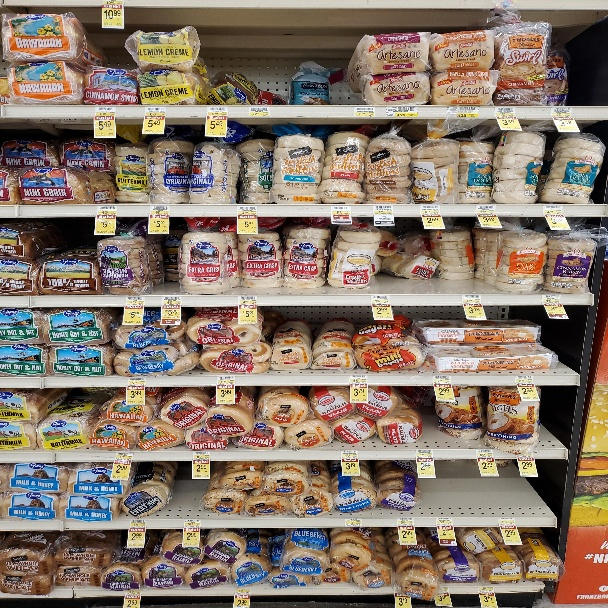All PRICE TAGS: (448, 107, 479, 117), (388, 106, 418, 116), (94, 106, 115, 116), (354, 106, 375, 116), (552, 107, 572, 117), (494, 107, 516, 116), (250, 106, 269, 116), (207, 106, 228, 115), (331, 205, 352, 214), (145, 106, 165, 115), (98, 205, 116, 215), (373, 205, 393, 214), (420, 205, 440, 214), (476, 205, 496, 214), (370, 295, 390, 304), (150, 205, 169, 214), (238, 205, 257, 214), (544, 205, 563, 214), (126, 296, 145, 305), (162, 296, 181, 305), (542, 294, 561, 303), (129, 519, 147, 528), (350, 375, 368, 384), (238, 296, 258, 304), (462, 295, 482, 303), (126, 377, 146, 385), (498, 516, 515, 525), (516, 375, 533, 384), (183, 519, 202, 527), (345, 517, 361, 526), (217, 376, 235, 384), (433, 375, 451, 383), (193, 451, 211, 459), (397, 517, 414, 525), (476, 449, 493, 457), (415, 449, 432, 457), (341, 450, 358, 458), (437, 517, 452, 525), (517, 451, 534, 458), (235, 588, 251, 595), (116, 452, 132, 459), (479, 585, 494, 592), (126, 590, 142, 595), (104, 1, 124, 4)
